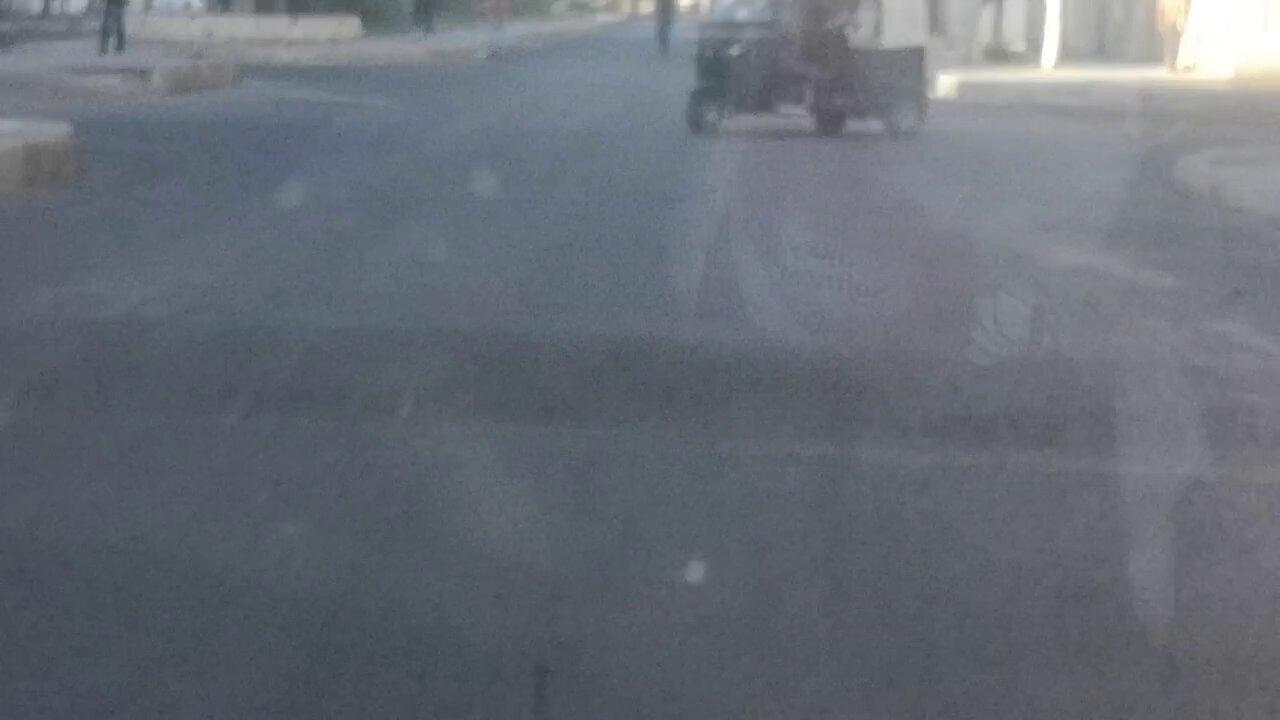Bump: (2, 307, 1280, 467)
